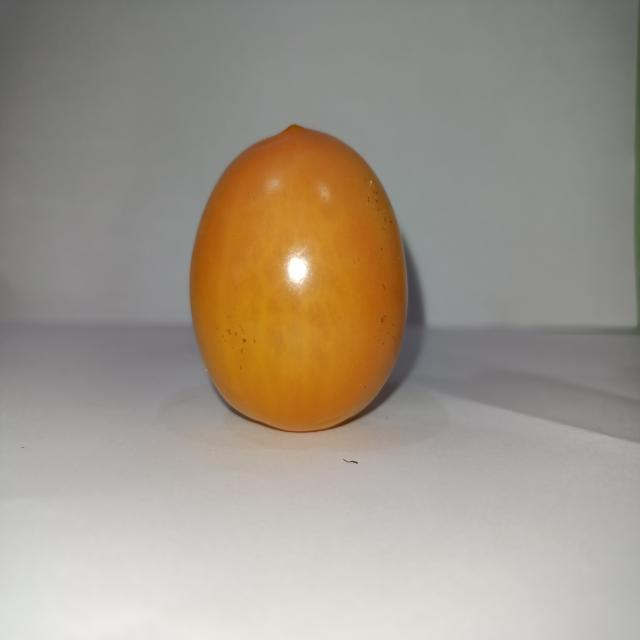Red: (187, 122, 409, 433)
